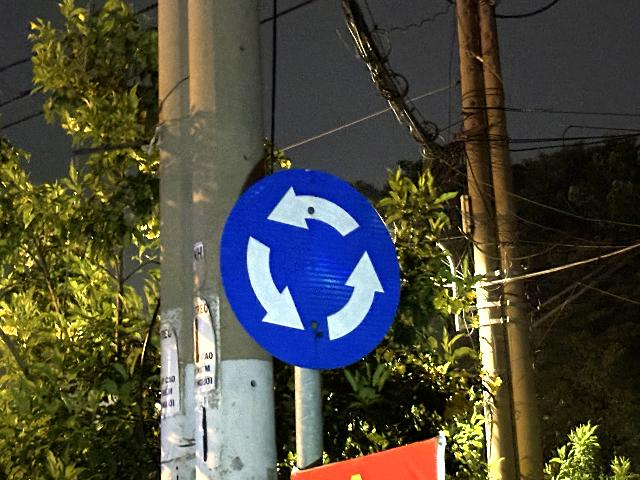noi-giao-nhau-chay-theo-vong-xuyen: (220, 166, 401, 369)
